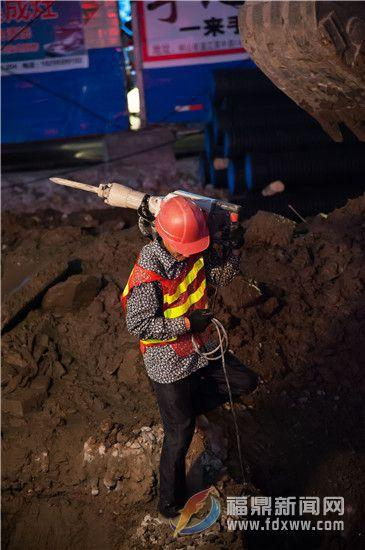helmet: (151, 193, 212, 263)
